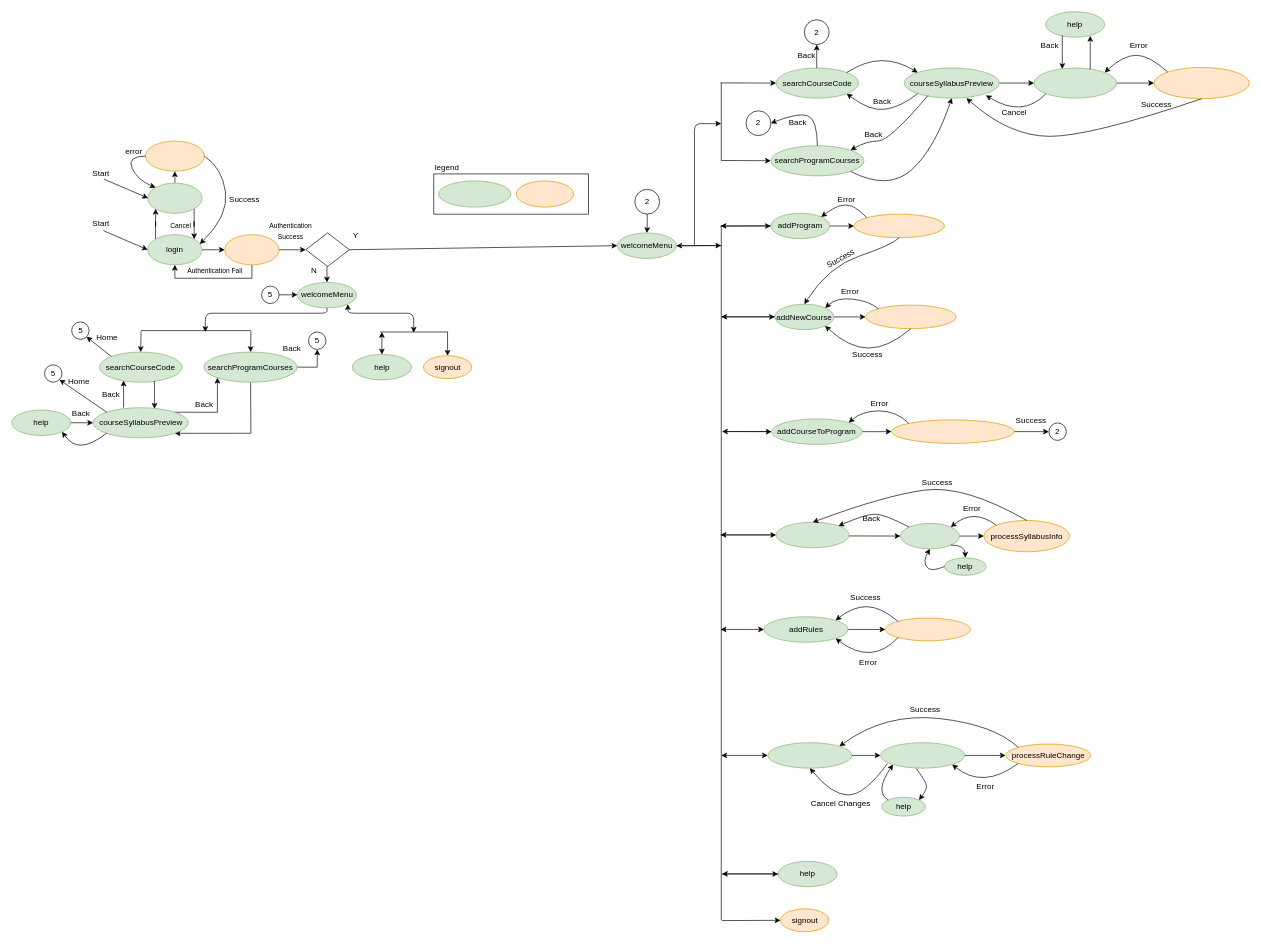
This 1261x944 diagram has some shape labels left out. Each missing label, with the box of its shape:
Admin?: (305, 232, 349, 266)
createAccount: (145, 140, 204, 171)
createSyllabus: (900, 523, 959, 549)
editSyllabus: (1033, 67, 1117, 98)
JSP that provides the front end: (438, 180, 511, 207)
listRules: (767, 742, 852, 768)
modifyRules: (880, 742, 965, 768)
processAddedProgramCourses: (891, 419, 1014, 443)
Processing JSP: (516, 180, 574, 207)
processNewCourse: (865, 304, 956, 329)
processNewProgram: (853, 213, 944, 238)
processNewRule: (885, 617, 970, 641)
processSyllabusEdition: (1153, 67, 1249, 99)
searchNewCourse: (776, 522, 849, 548)
signup: (147, 182, 202, 213)
validation: (224, 234, 279, 265)
